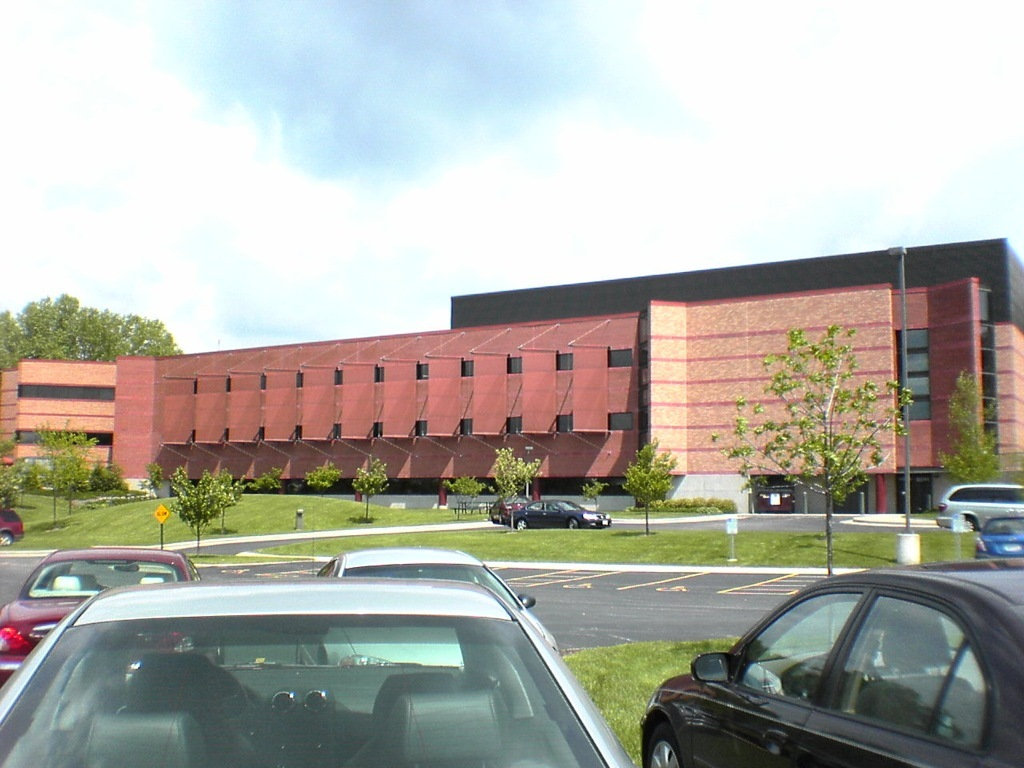Car: (21, 572, 620, 768), (0, 541, 229, 699), (284, 547, 561, 668), (933, 478, 1022, 536), (508, 496, 613, 530), (972, 513, 1022, 564), (490, 492, 524, 524), (0, 511, 19, 547)
